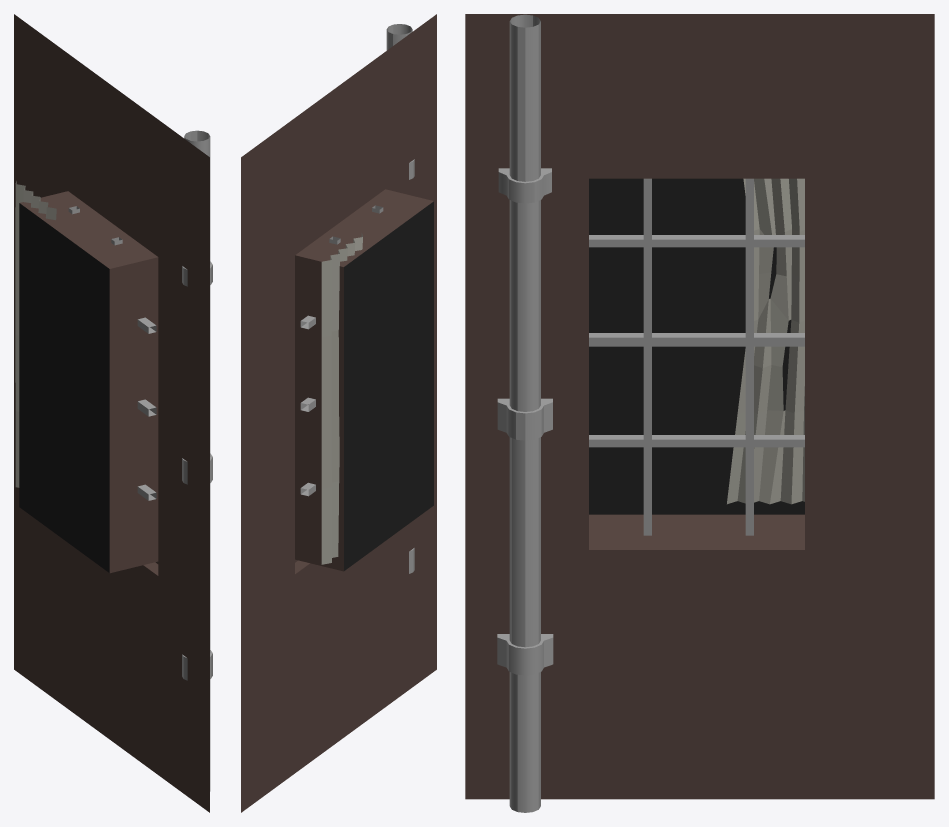
Rendered from houseWall_7.fbx.
3 views of the same model, side by side, from view 1: azimuth 30°, elevation 25°; view 2: azimuth 150°, elevation 25°; view 3: azimuth 270°, elevation 25° (orthographic). The views are drawn at different scales.
Visible parts, largest first — view 1: houseWall_7; view 2: houseWall_7; view 3: houseWall_7.
Boxes of the visible parts, box(x1,y1,x2,y2) form: houseWall_7: box(14, 14, 212, 812); houseWall_7: box(241, 14, 436, 812); houseWall_7: box(465, 14, 934, 812).
Bounding box in the file's own units: 57.13 × 480 × 260.
